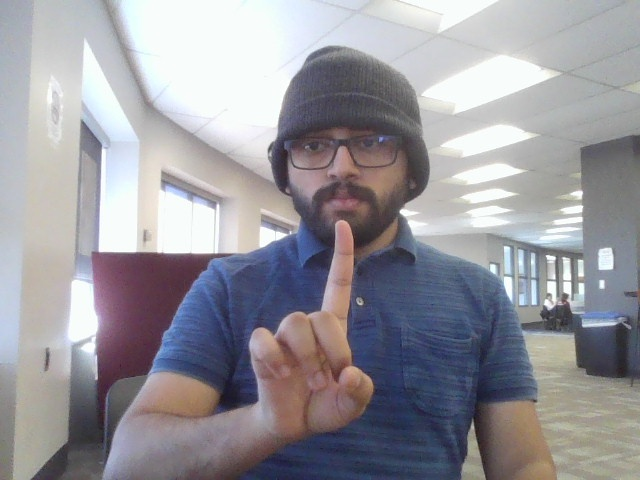one: (243, 215, 388, 447)
